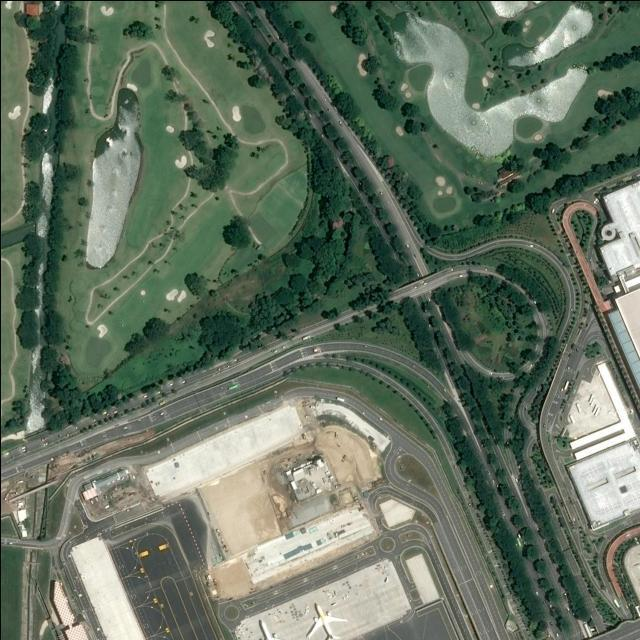Aircraft: (304, 601, 346, 640), (248, 619, 295, 640)
